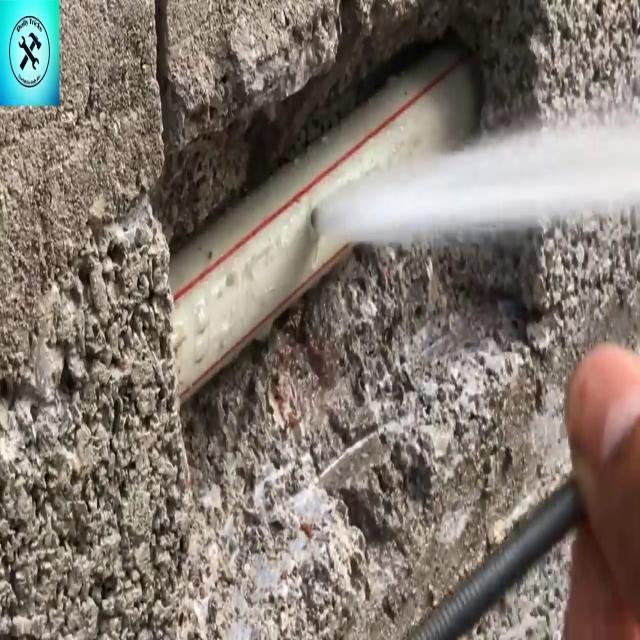leak: (312, 109, 640, 242)
